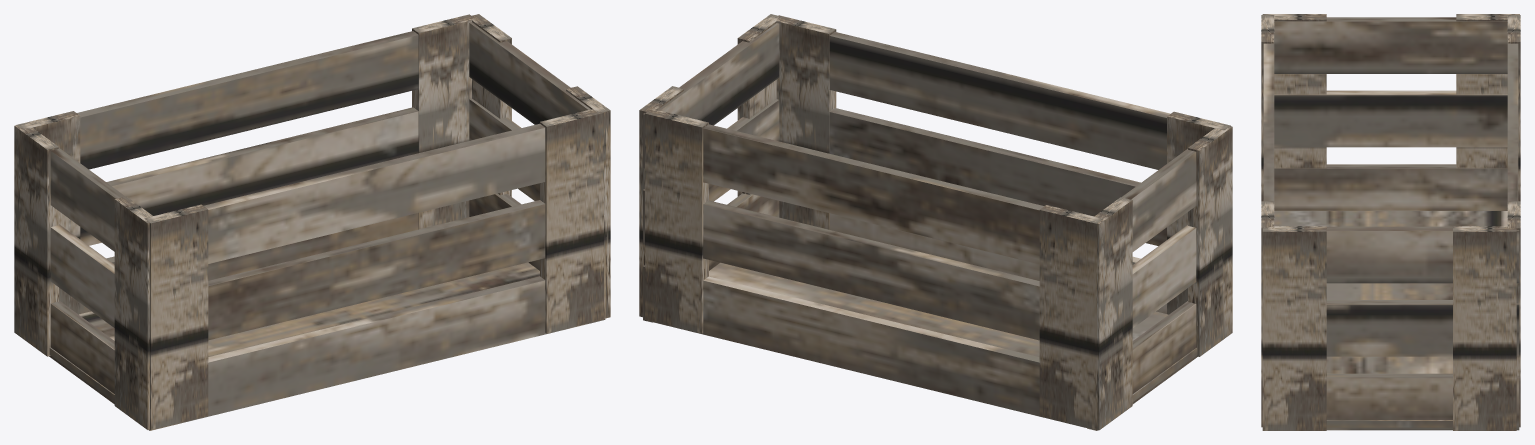
File: Lada.glb
3 renders of one model, left to right at view 1: azimuth 30°, elevation 25°; view 2: azimuth 150°, elevation 25°; view 3: azimuth 270°, elevation 25°, orthographic. The views are drawn at different scales.
Parts seen in each view (by area): view 1: Cube, Cube.001; view 2: Cube, Cube.001; view 3: Cube, Cube.001.
Part boxes in pixels (bbox=[...]): Cube: bbox=[49, 22, 605, 430]; Cube.001: bbox=[14, 14, 610, 429]; Cube: bbox=[643, 23, 1197, 430]; Cube.001: bbox=[639, 14, 1232, 430]; Cube: bbox=[1263, 17, 1519, 430]; Cube.001: bbox=[1261, 14, 1520, 430].
Bounding box in the file's own units: 3.07 × 1.32 × 1.55.
Materials: 1 (1 with a texture image).
